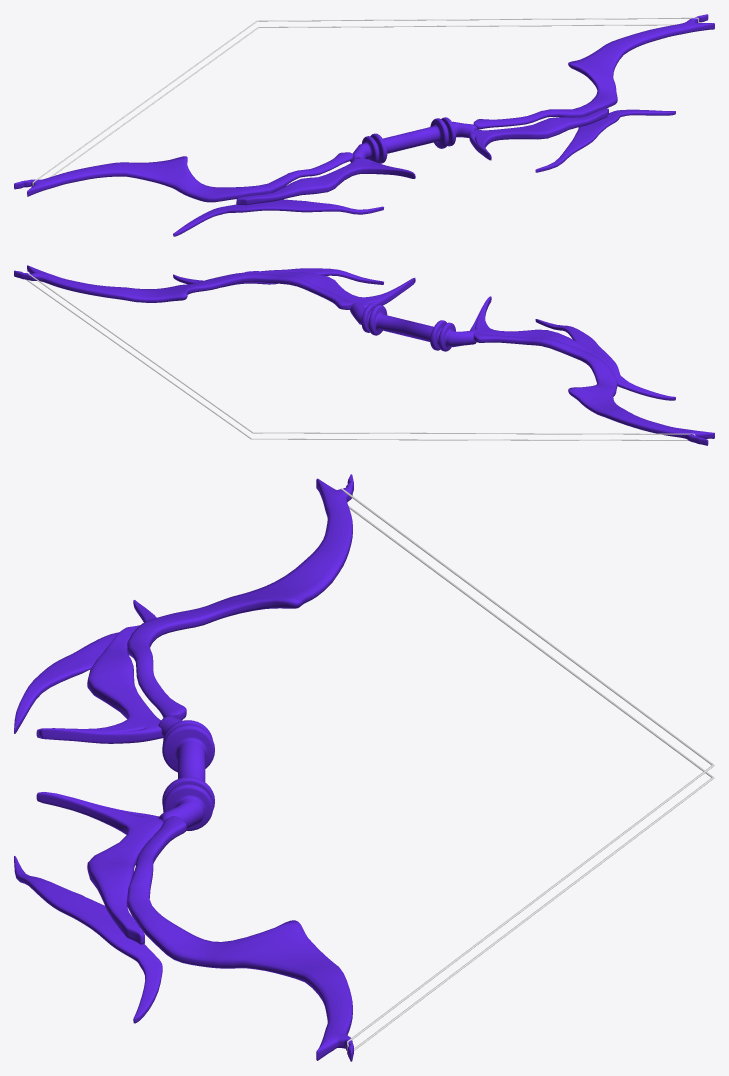
3 renders of one model, top to bottom at view 1: azimuth 30°, elevation 25°; view 2: azimuth 150°, elevation 25°; view 3: azimuth 270°, elevation 25°, orthographic. The views are drawn at different scales.
Visible parts, largest first — view 1: 99.3, 99.thirdstep; view 2: 99.3, 99.thirdstep; view 3: 99.3, 99.thirdstep.
Boxes of the visible parts, x1,y1,x2,y2 form: 99.3: [14, 14, 714, 236]; 99.thirdstep: [32, 17, 698, 185]; 99.3: [14, 265, 714, 445]; 99.thirdstep: [26, 273, 695, 440]; 99.3: [14, 474, 353, 1061]; 99.thirdstep: [340, 488, 714, 1054].
Size of the model in its own units: 87.66 by 4.49 by 44.92.
